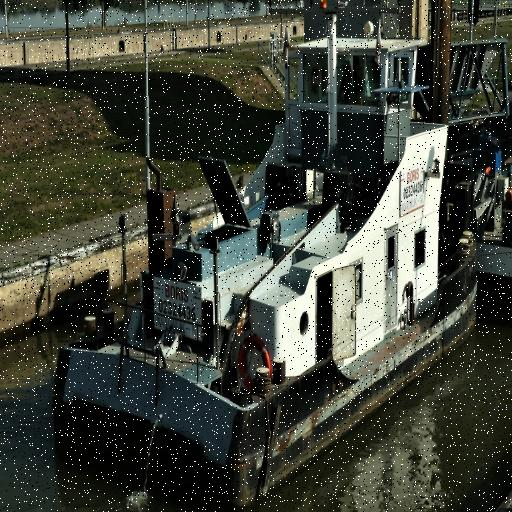tugboat: (43, 9, 483, 512)
